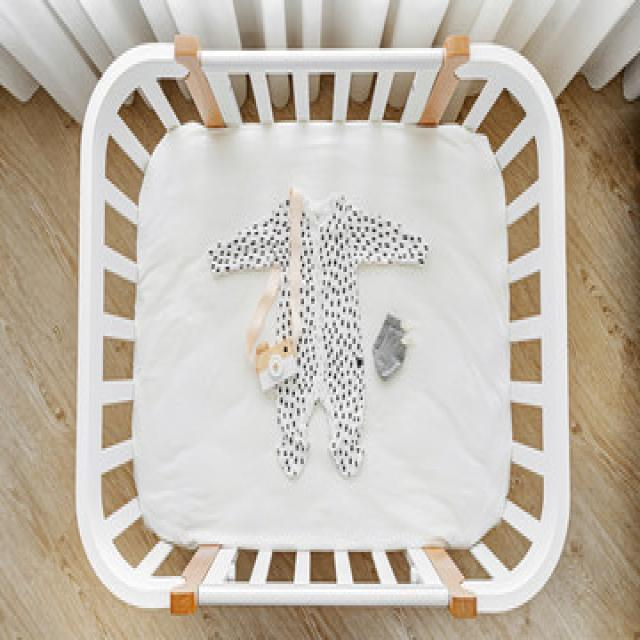crib: (73, 26, 572, 618)
